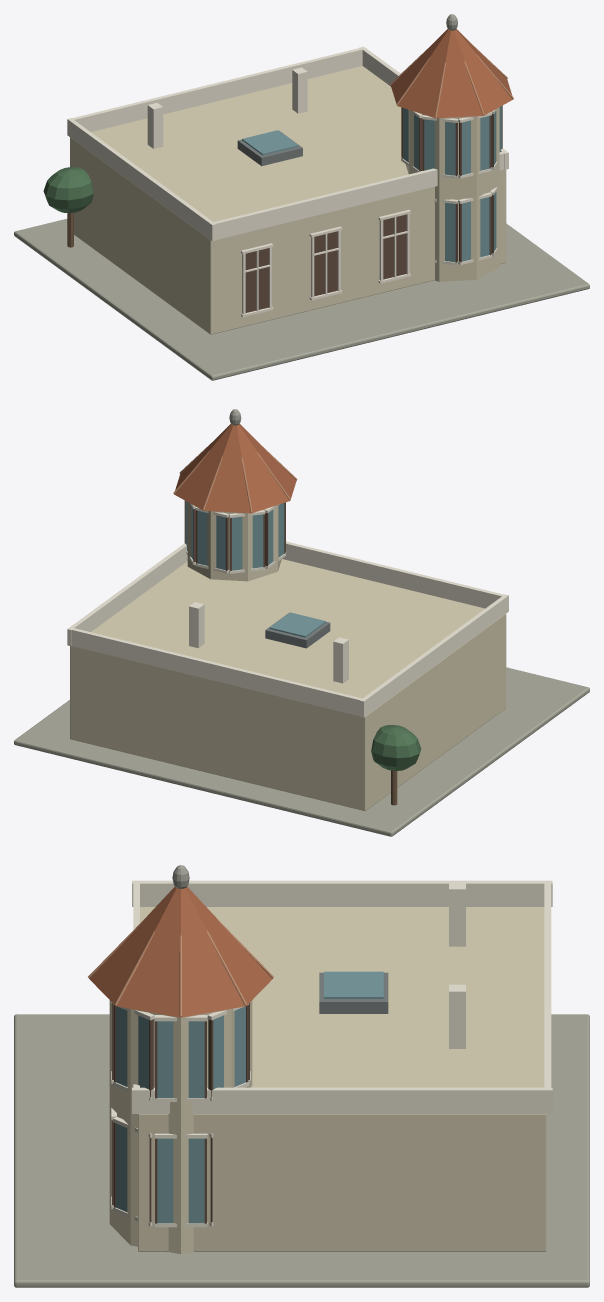
Rendered from gms-47.glb.
3 views of the same model, one above another, from view 1: azimuth 30°, elevation 25°; view 2: azimuth 150°, elevation 25°; view 3: azimuth 270°, elevation 25° (orthographic). The views are drawn at different scales.
Visible parts, largest first — view 1: Single-floor rectangular historic house, Context plinth, White roof parapet side, Eight-hip steep terracotta pavilion roof, Large rectangular corner pavilion glazing, Tall original ground-floor window recess, Broadleaf canopy, Central roof skylight, Octagonal tiled hip ridge; view 2: Single-floor rectangular historic house, Context plinth, White roof parapet side, Eight-hip steep terracotta pavilion roof, Large rectangular corner pavilion glazing, Broadleaf canopy, Tall original ground-floor window recess, Central roof skylight, Octagonal tiled hip ridge; view 3: Single-floor rectangular historic house, Context plinth, White roof parapet side, Eight-hip steep terracotta pavilion roof, Large rectangular corner pavilion glazing, Tall original ground-floor window recess, Central roof skylight, Octagonal tiled hip ridge.
Part boxes in pixels (box(x1,y1,x2,y2)): Single-floor rectangular historic house: box(70, 66, 506, 334); Context plinth: box(14, 219, 589, 380); White roof parapet side: box(67, 46, 508, 317); Eight-hip steep terracotta pavilion roof: box(390, 29, 513, 118); Large rectangular corner pavilion glazing: box(242, 106, 501, 262); Tall original ground-floor window recess: box(245, 105, 502, 312); Broadleaf canopy: box(43, 167, 93, 212); Central roof skylight: box(237, 130, 302, 166); Octagonal tiled hip ridge: box(390, 46, 513, 117); Single-floor rectangular historic house: box(70, 502, 506, 810); Context plinth: box(14, 667, 589, 836); White roof parapet side: box(67, 503, 508, 717); Eight-hip steep terracotta pavilion roof: box(174, 423, 296, 513); Large rectangular corner pavilion glazing: box(185, 501, 325, 637); Broadleaf canopy: box(371, 725, 421, 770); Tall original ground-floor window recess: box(184, 500, 285, 570); Central roof skylight: box(265, 612, 330, 648); Octagonal tiled hip ridge: box(173, 442, 297, 512); Single-floor rectangular historic house: box(109, 907, 546, 1254); Context plinth: box(14, 1014, 589, 1287); White roof parapet side: box(111, 880, 552, 1227); Eight-hip steep terracotta pavilion roof: box(89, 886, 272, 1017); Large rectangular corner pavilion glazing: box(116, 971, 383, 1223); Tall original ground-floor window recess: box(112, 1003, 249, 1223); Central roof skylight: box(319, 972, 388, 1013); Octagonal tiled hip ridge: box(88, 919, 273, 1016).
Bounding box in the file's own units: 11 × 7.01 × 10.
